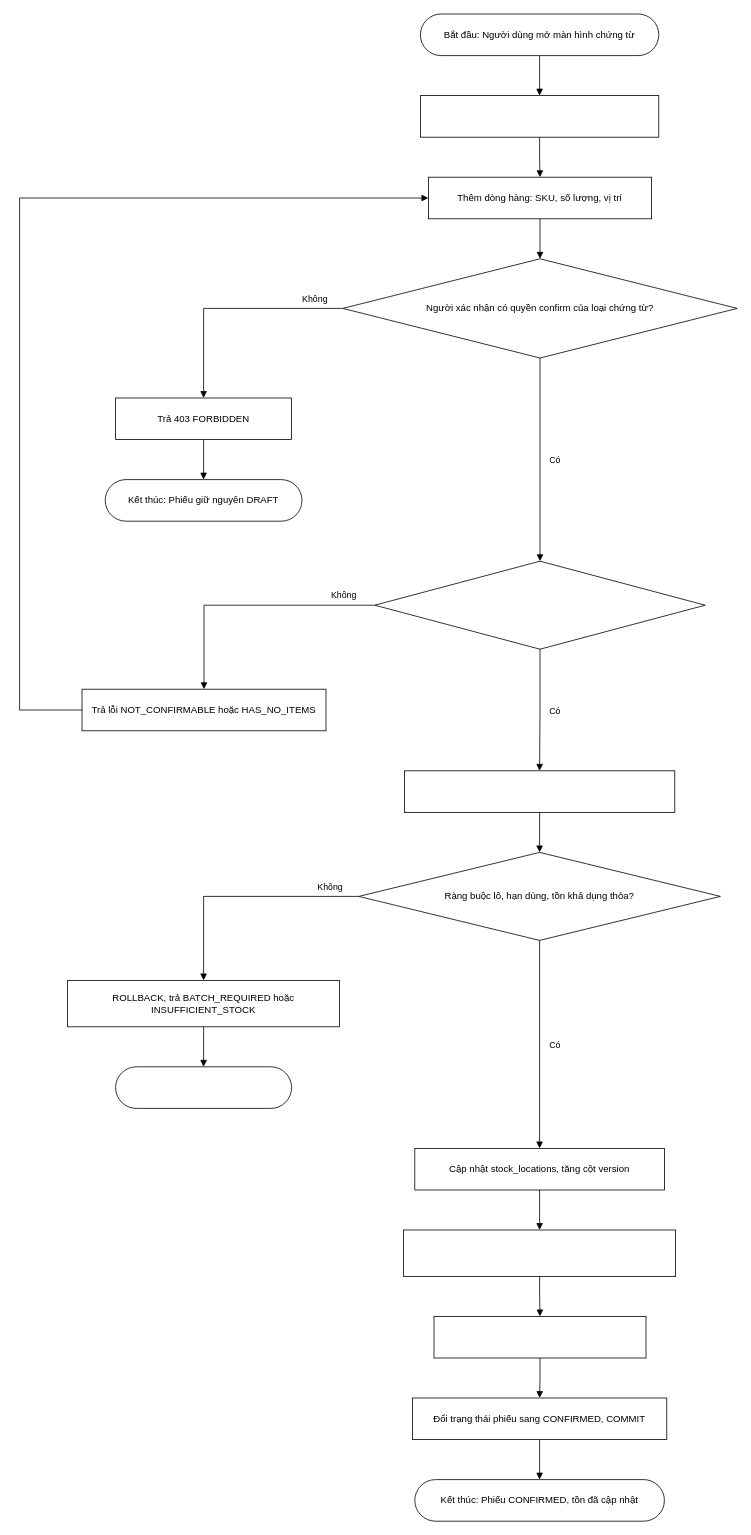
Some shapes in this 751 by 1535 pixel diagram are drawn without their labels. The shapes that lost their labels are listed below. From the top down, each one's centre as x and y in pixels, then its label:
point (539, 116): Tạo phiếu, hệ thống đặt trạng thái DRAFT
point (539, 604): Phiếu đúng trạng thái và có dòng hàng?
point (539, 791): BEGIN TRANSACTION, khóa bản ghi tồn FOR UPDATE
point (203, 1087): Kết thúc: Tồn kho không đổi
point (539, 1252): Ghi inventory_transactions kèm quantity_before và quantity_after
point (539, 1337): Ghi audit_logs trong cùng giao dịch
